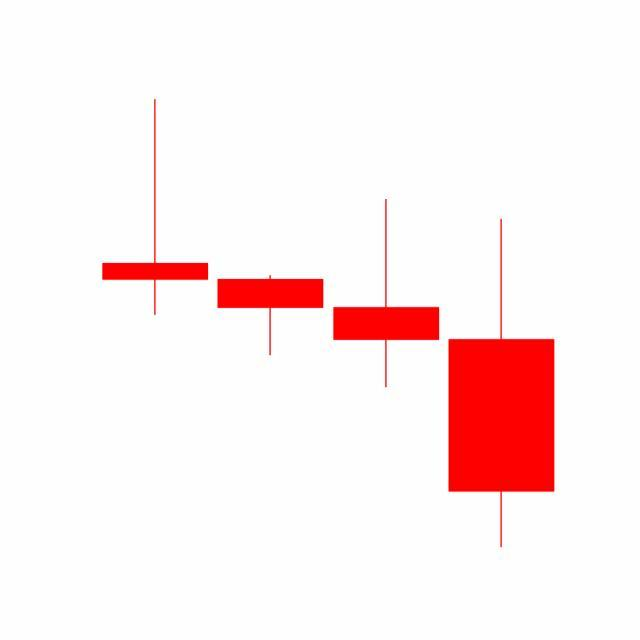Spinning Top: (329, 197, 445, 391)
